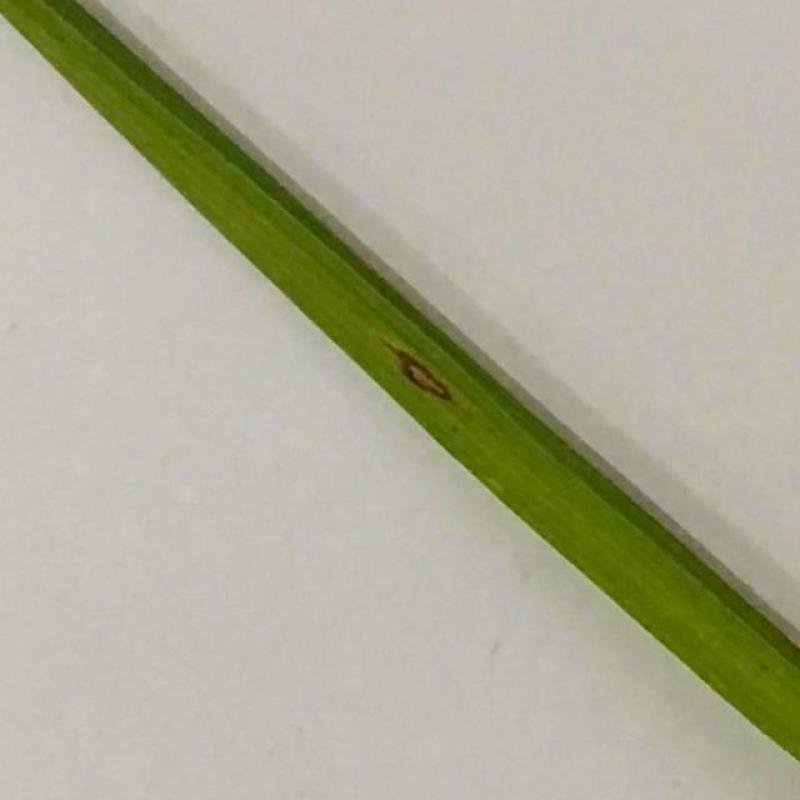Leaf_Blast: (379, 339, 485, 435)
